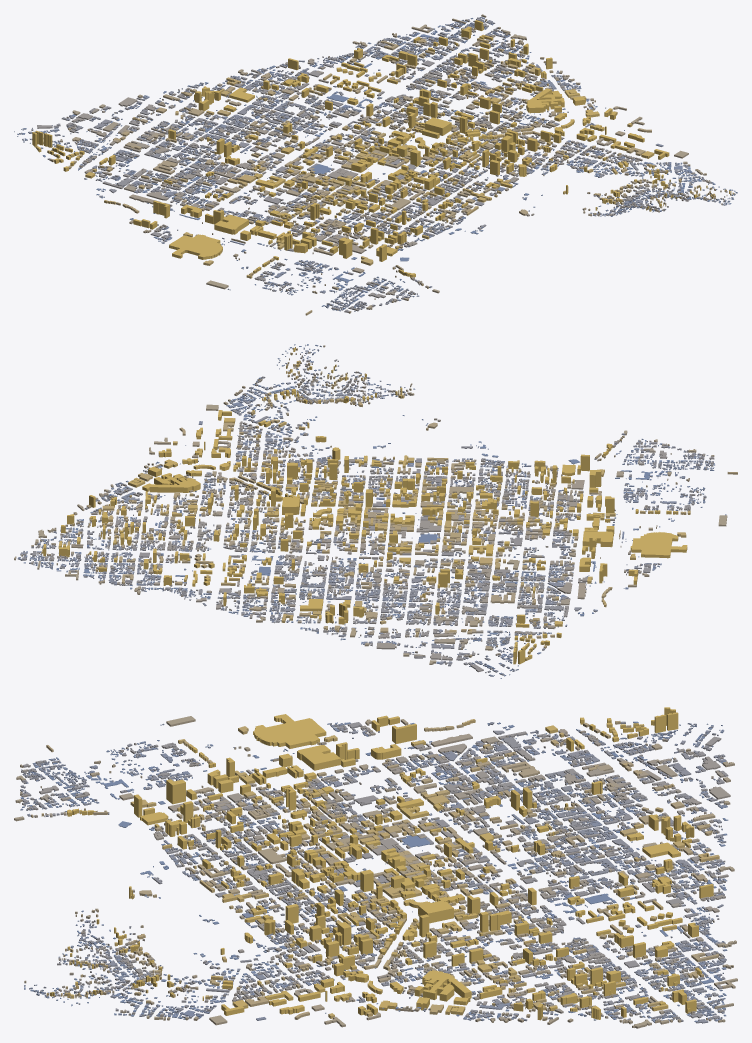
File: buildings.glb
The picture shows the model from 3 angles, top to bottom: view 1: azimuth 30°, elevation 25°; view 2: azimuth 150°, elevation 25°; view 3: azimuth 270°, elevation 25°; orthographic projection. The views are drawn at different scales.
Visible parts, largest first — view 1: buildings; view 2: buildings; view 3: buildings.
Part boxes in pixels (x1=…): buildings: x1=14, y1=14, x2=737, y2=315; buildings: x1=14, y1=344, x2=737, y2=678; buildings: x1=14, y1=707, x2=737, y2=1028.
Size of the model in its own units: 2732 by 186 by 2673.
